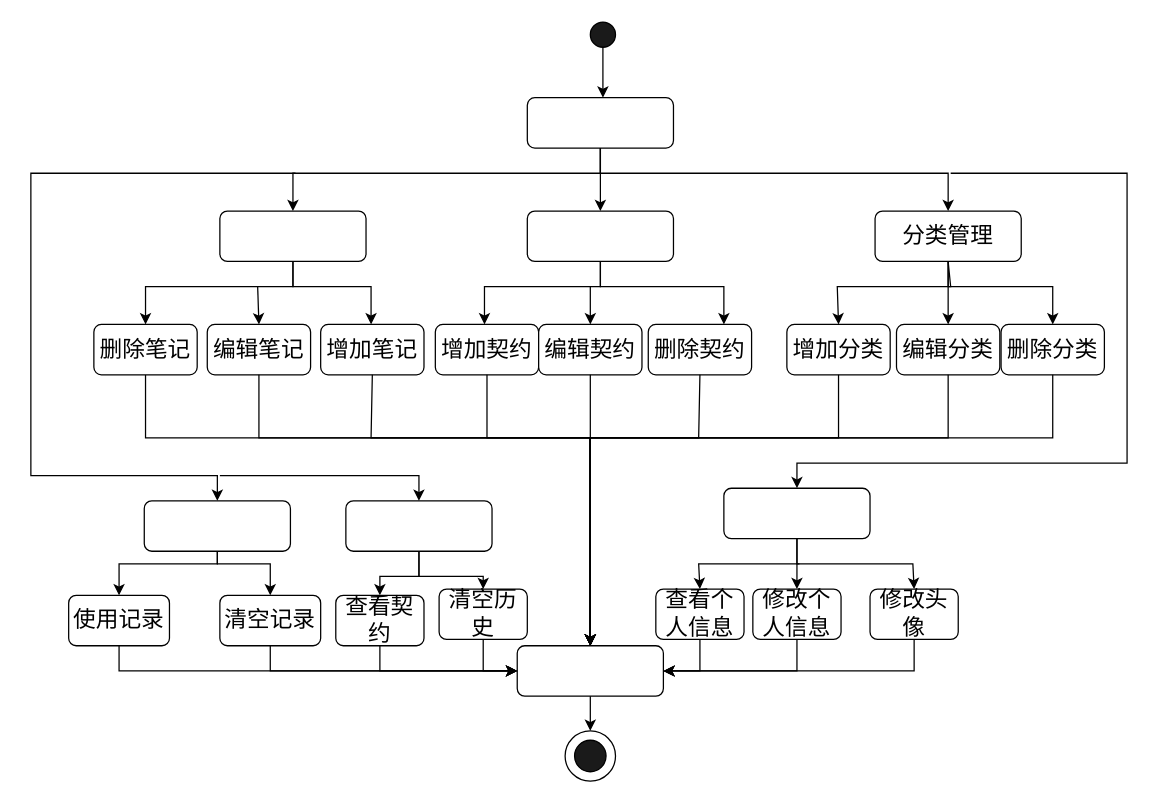
Some shapes in this 1159 by 804 pixel diagram are drawn without their labels. Each missing label, with the centre of its shape:
"个人信息" belongs at (x=796, y=513).
"契约历史" belongs at (x=418, y=525).
"契约管理" belongs at (x=599, y=235).
"检索记录" belongs at (x=216, y=525).
"登陆系统" belongs at (x=599, y=122).
"笔记管理" belongs at (x=292, y=235).
"退出系统" belongs at (x=589, y=670).
